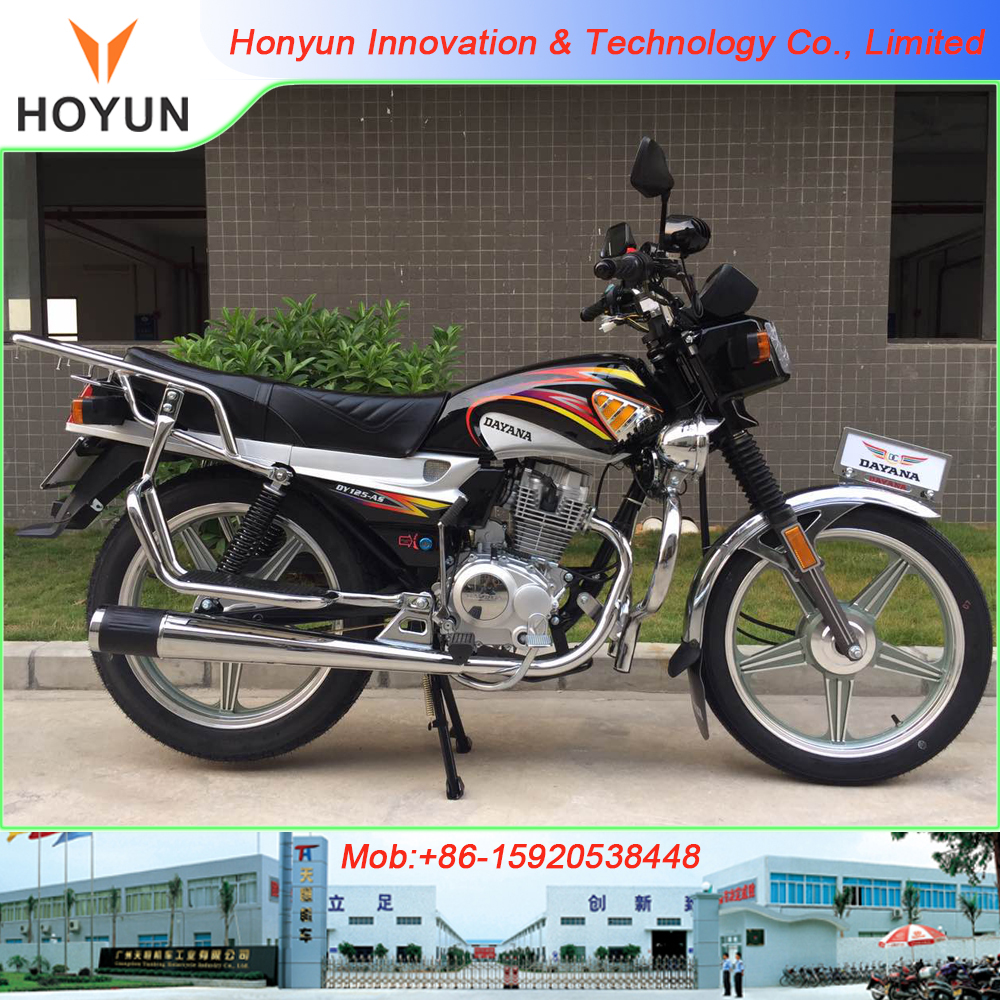motorbike: (13, 189, 1000, 815)
